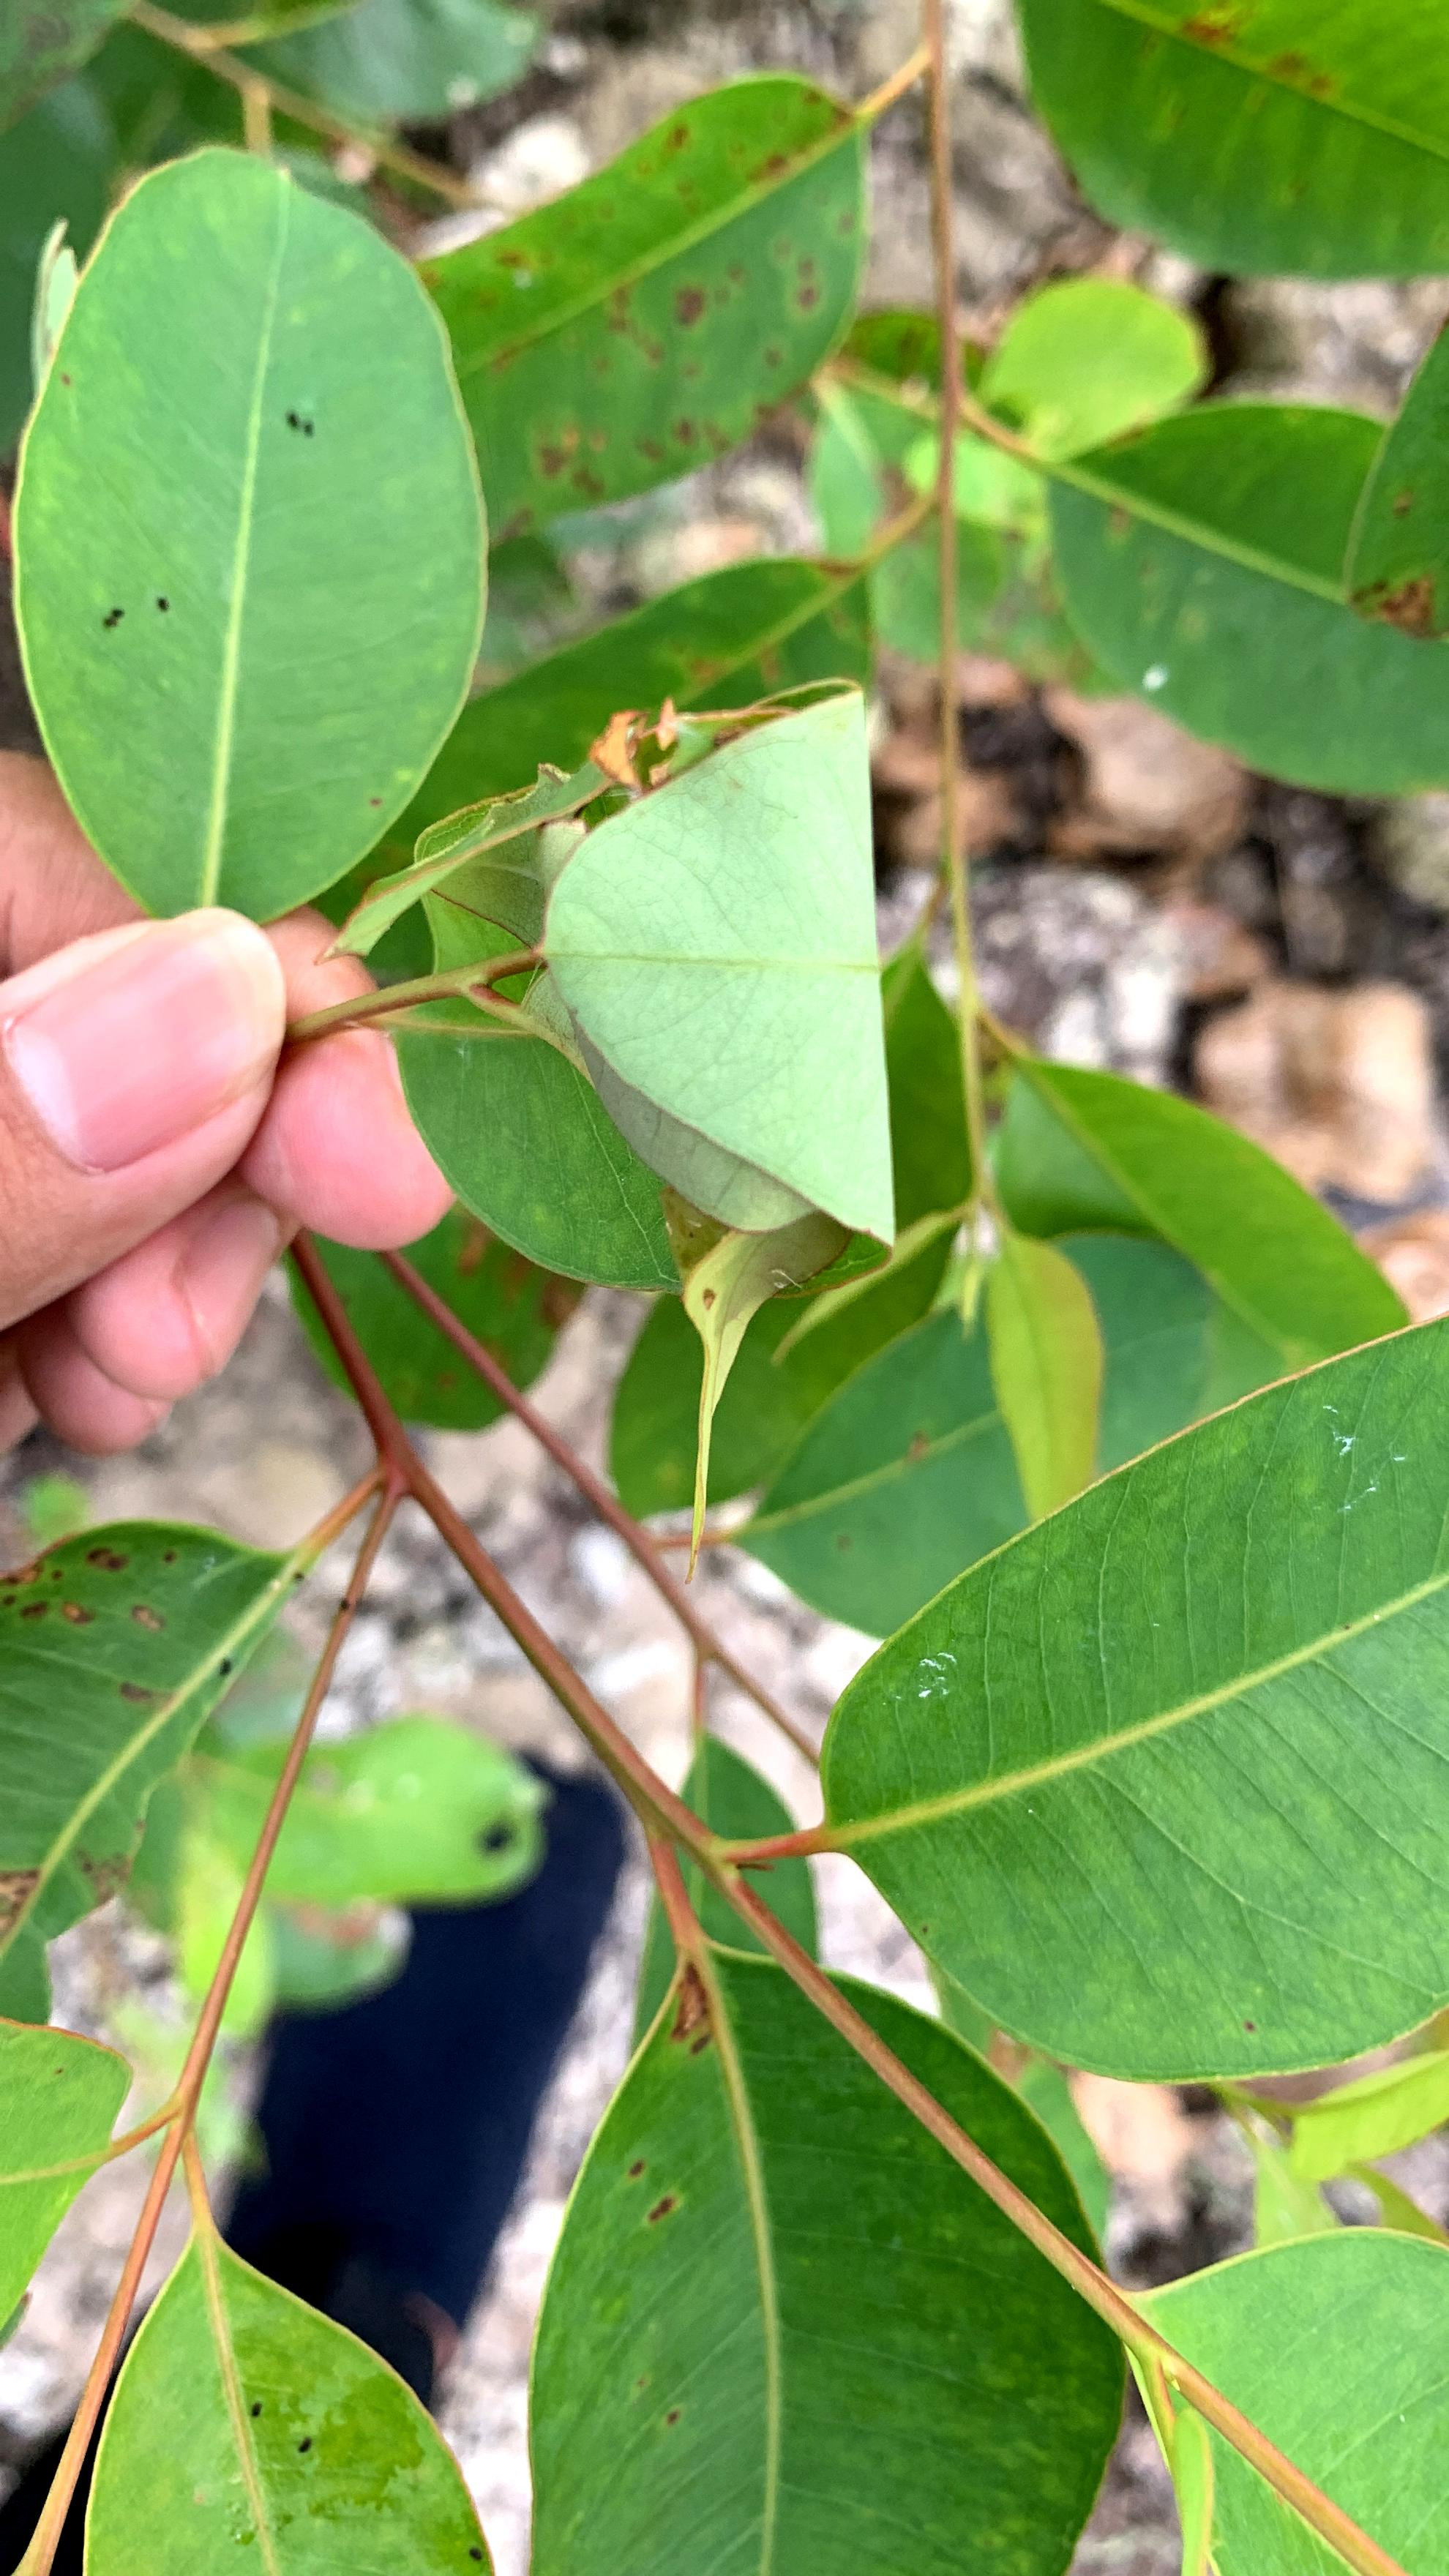Leaf Roller - Leaf: (535, 700, 922, 1252)
